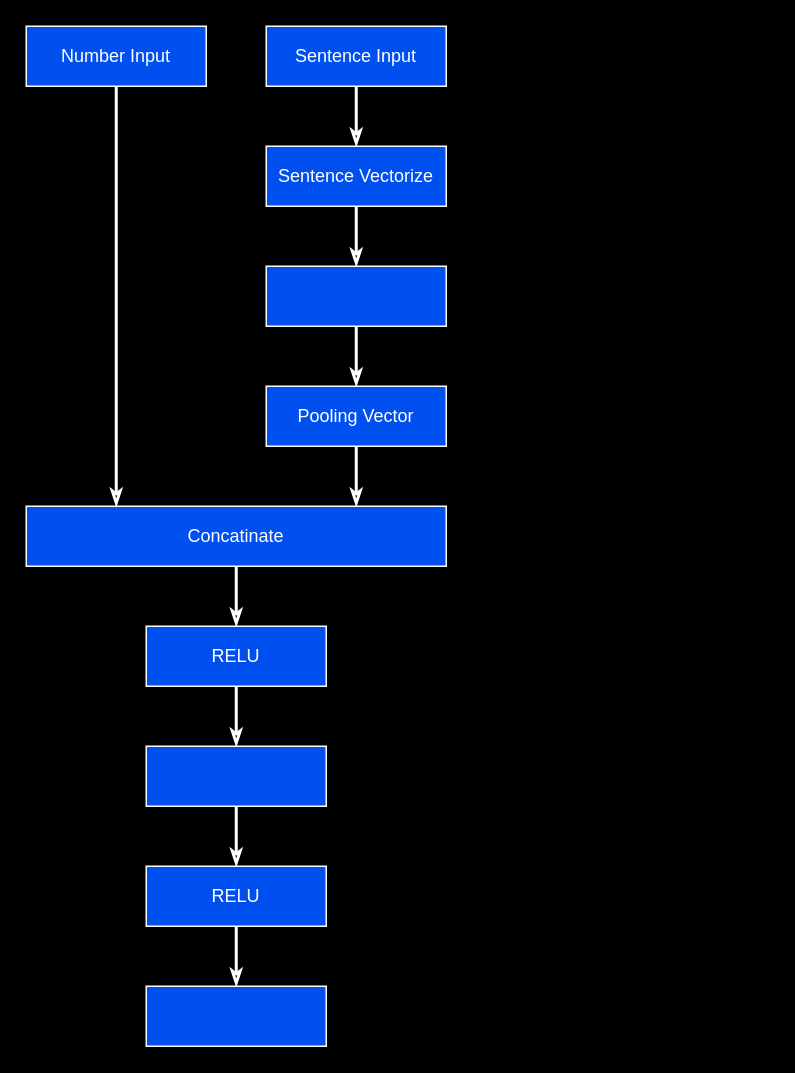
The diagram is 795 pixels wide and 1073 high, and some of its shapes have lost their labels. The centre of each missing label's shape, as x and y in pixels:
"Embedding Vector" belongs at point (355, 295).
"Normalization" belongs at point (235, 775).
"Output" belongs at point (235, 1015).
